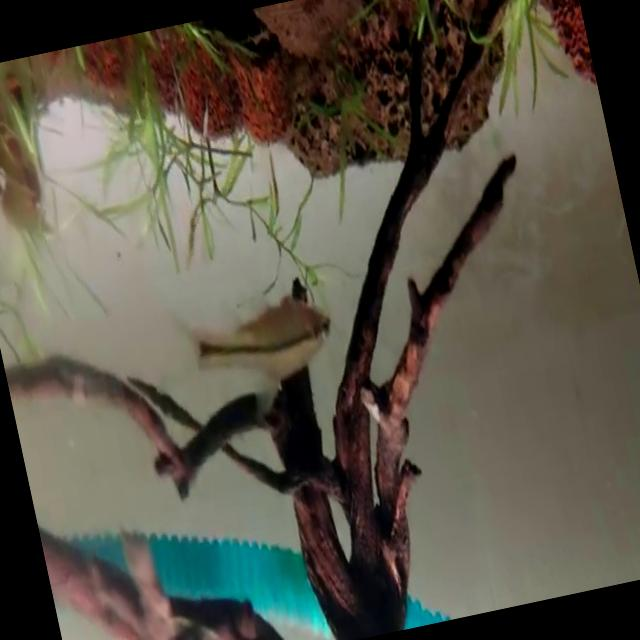Cakil Baligi: (171, 262, 361, 428)
